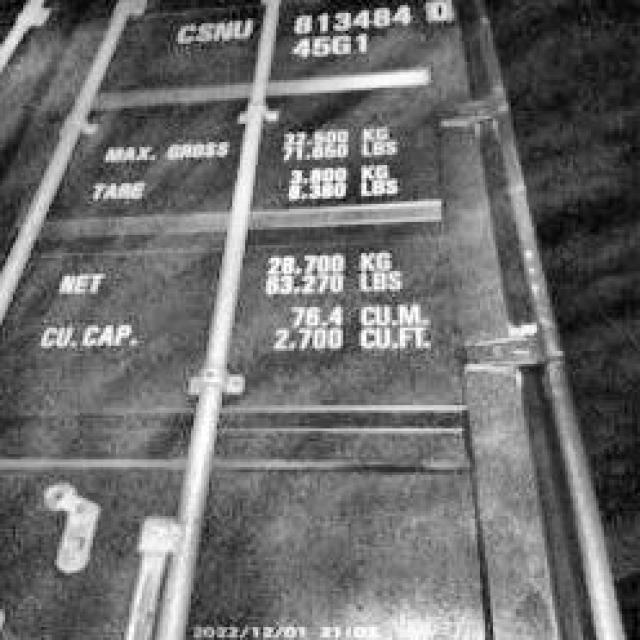ISO: (292, 33, 367, 60)
container_number: (180, 0, 456, 45)
